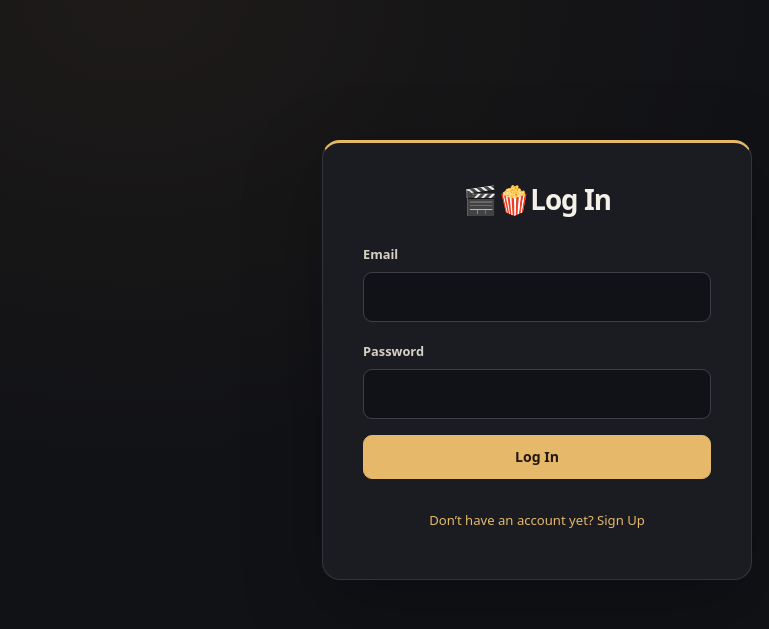
Test: existing workflow regression repairs › explains registration confirmation without claiming a session
The width and height of the screenshot is (769, 629).
Click the button "Don’t have an account yet? Sign Up". click: (537, 521)
box: [421,503,653,539]
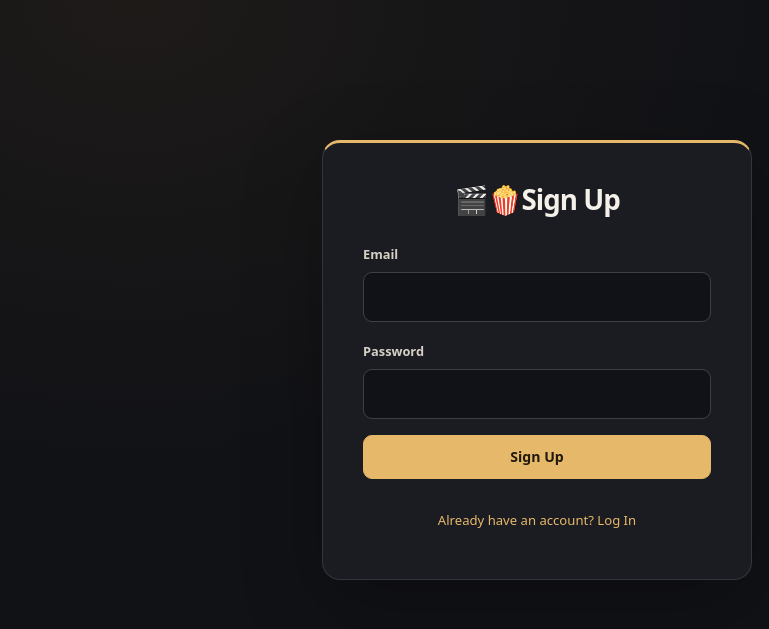
Type "user@example.test" into the field labelled "Email". click: (537, 297)
box: [363,272,711,322]
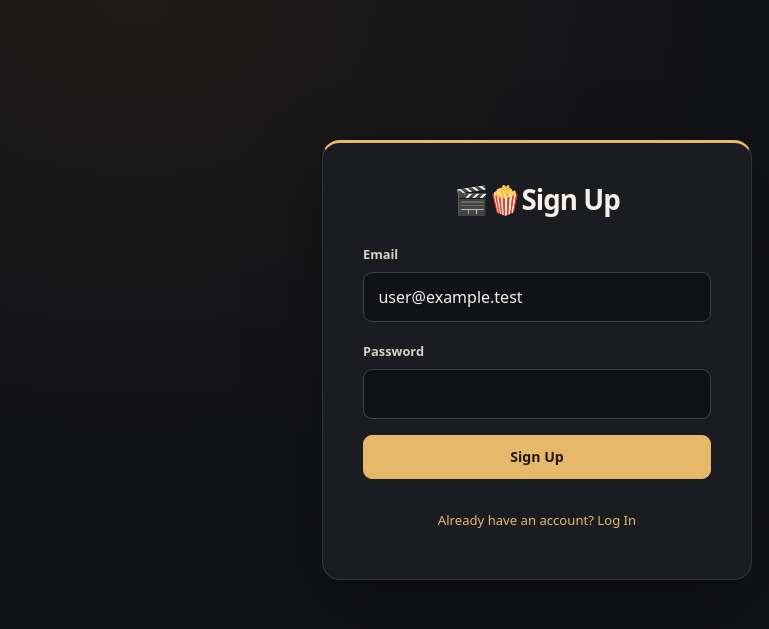
Type "example-password" into the password field labelled "Password". click: (537, 394)
box: [363,369,711,419]
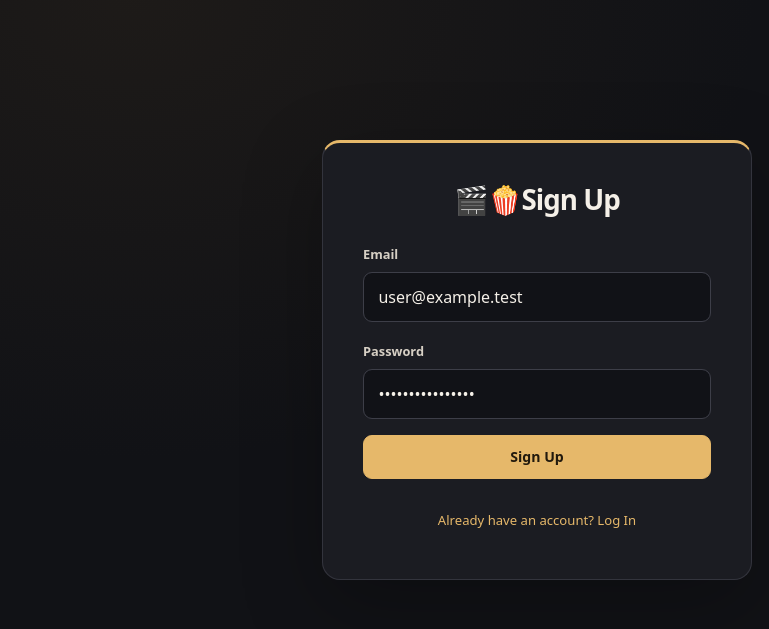
Click the button "Sign Up". click: (537, 457)
box: [363,435,711,479]
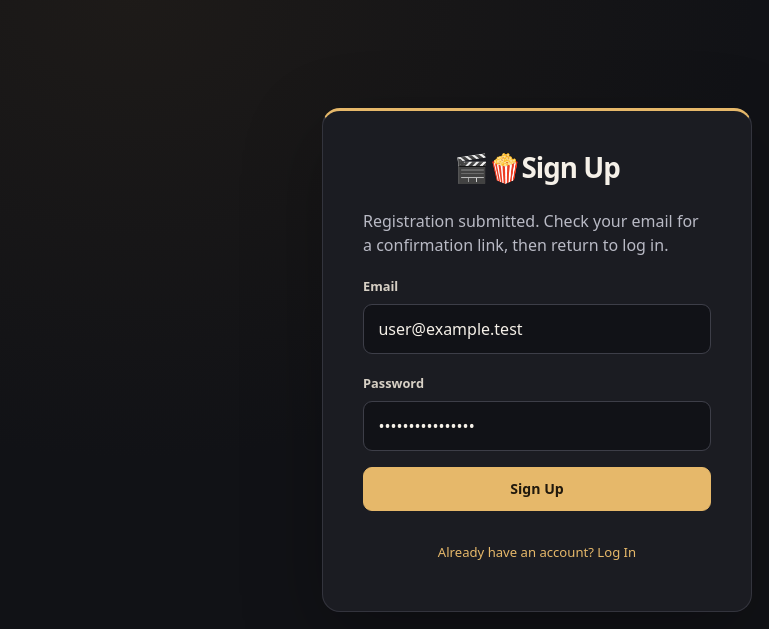
Expected: the text "Check your email" is shown, [363,210,699,256]
